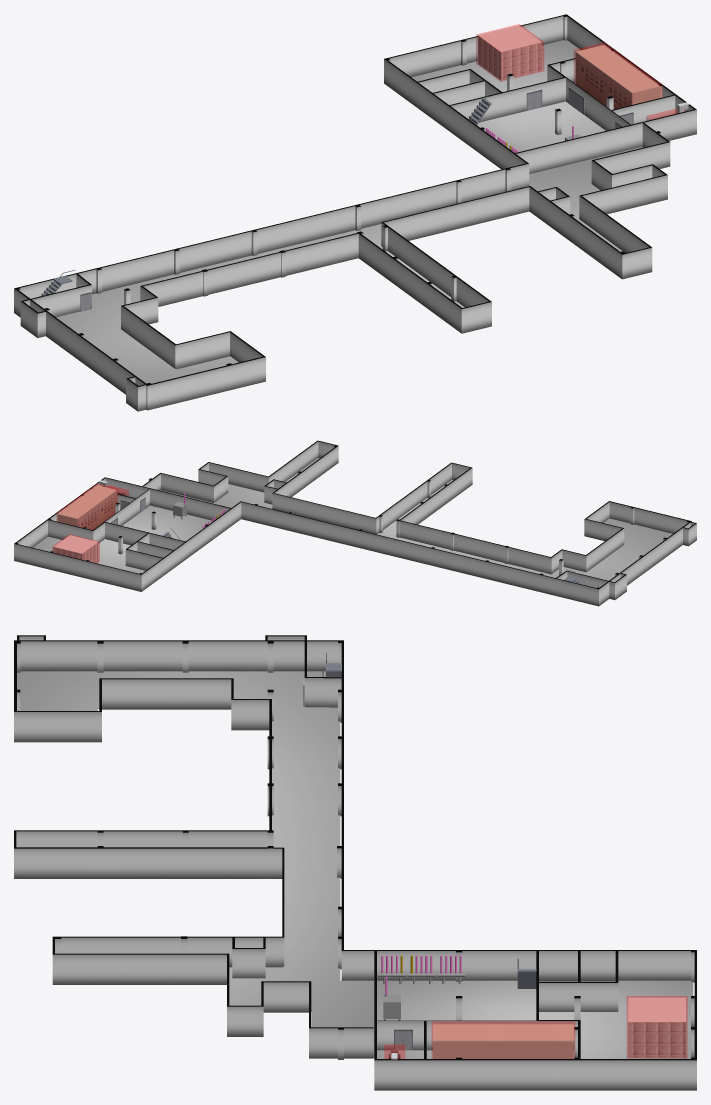
File: soulbrain_T9-1-1B.glb
3 views of the same model, one above another, from view 1: azimuth 30°, elevation 25°; view 2: azimuth 150°, elevation 25°; view 3: azimuth 270°, elevation 25° (orthographic). The views are drawn at different scales.
Parts seen in each view (by area): view 1: T9-1-PIT (1), Line647, equipment-T9-1-PIT-002, equipment-T9-1-PIT-003, Box2737, Box1932; view 2: T9-1-PIT (1), Line647, equipment-T9-1-PIT-002, equipment-T9-1-PIT-003, Box2737; view 3: T9-1-PIT (1), Line647, equipment-T9-1-PIT-002, equipment-T9-1-PIT-003, Box2737.
Boxes of the visible parts, left/top/right/bottom form: T9-1-PIT (1): left=14, top=14, right=696, bottom=411; Line647: left=56, top=40, right=642, bottom=383; equipment-T9-1-PIT-002: left=574, top=42, right=662, bottom=108; equipment-T9-1-PIT-003: left=476, top=24, right=543, bottom=81; Box2737: left=478, top=25, right=541, bottom=80; Box1932: left=80, top=87, right=633, bottom=311; T9-1-PIT (1): left=14, top=440, right=696, bottom=606; Line647: left=33, top=458, right=672, bottom=580; equipment-T9-1-PIT-002: left=56, top=484, right=117, bottom=529; equipment-T9-1-PIT-003: left=52, top=534, right=99, bottom=562; Box2737: left=53, top=535, right=98, bottom=563; T9-1-PIT (1): left=14, top=635, right=696, bottom=1090; Line647: left=17, top=671, right=693, bottom=1058; equipment-T9-1-PIT-002: left=432, top=1021, right=574, bottom=1058; equipment-T9-1-PIT-003: left=627, top=996, right=687, bottom=1058; Box2737: left=628, top=997, right=685, bottom=1057.
Bounding box in the file's own units: 81.55 × 3.95 × 55.42.
17 materials, 13 textured.
